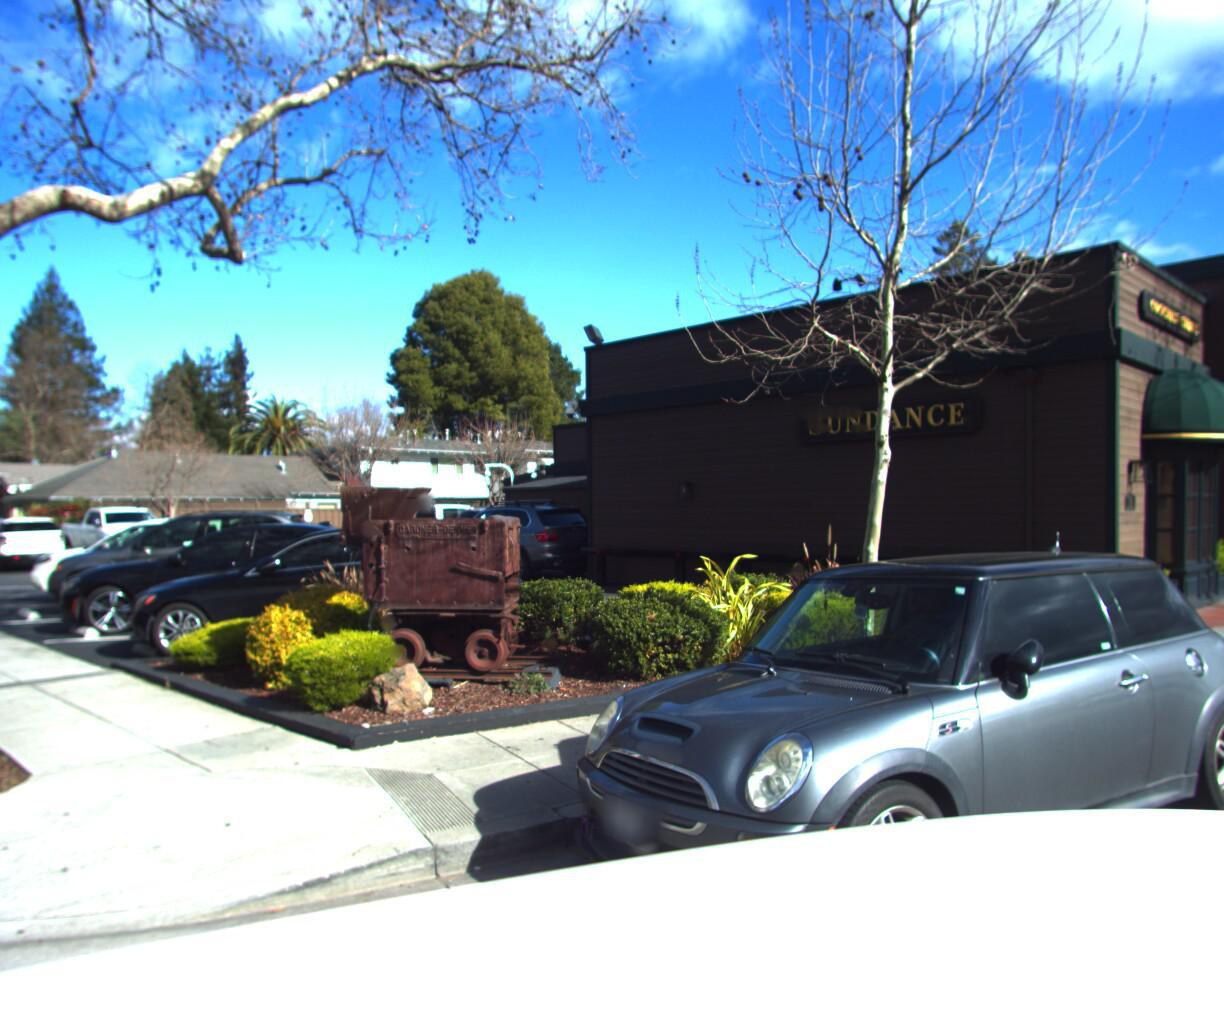car: (519, 528, 1224, 1023), (93, 513, 534, 655), (22, 508, 431, 628), (21, 499, 340, 607)
